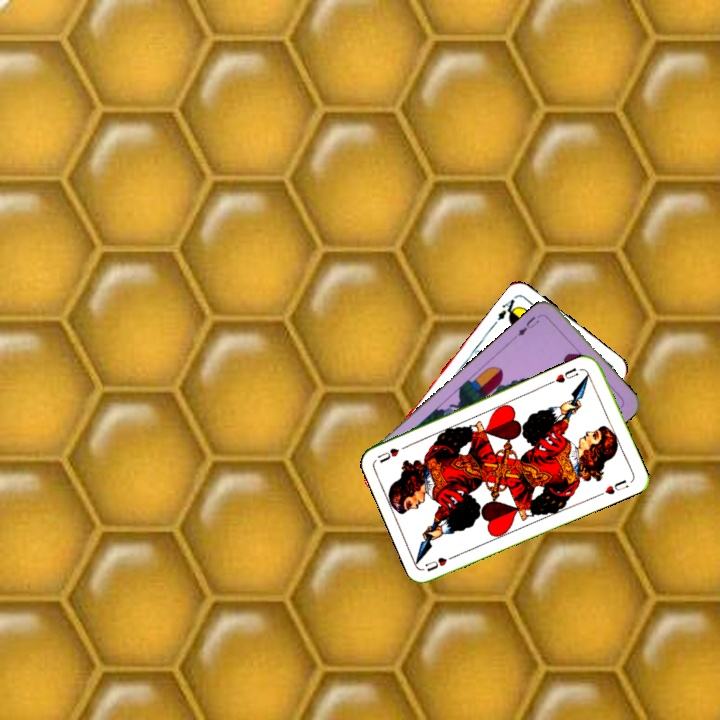EA: (493, 292, 521, 323)
EU: (514, 312, 542, 339)
HU: (421, 550, 460, 574), (551, 364, 581, 386)
